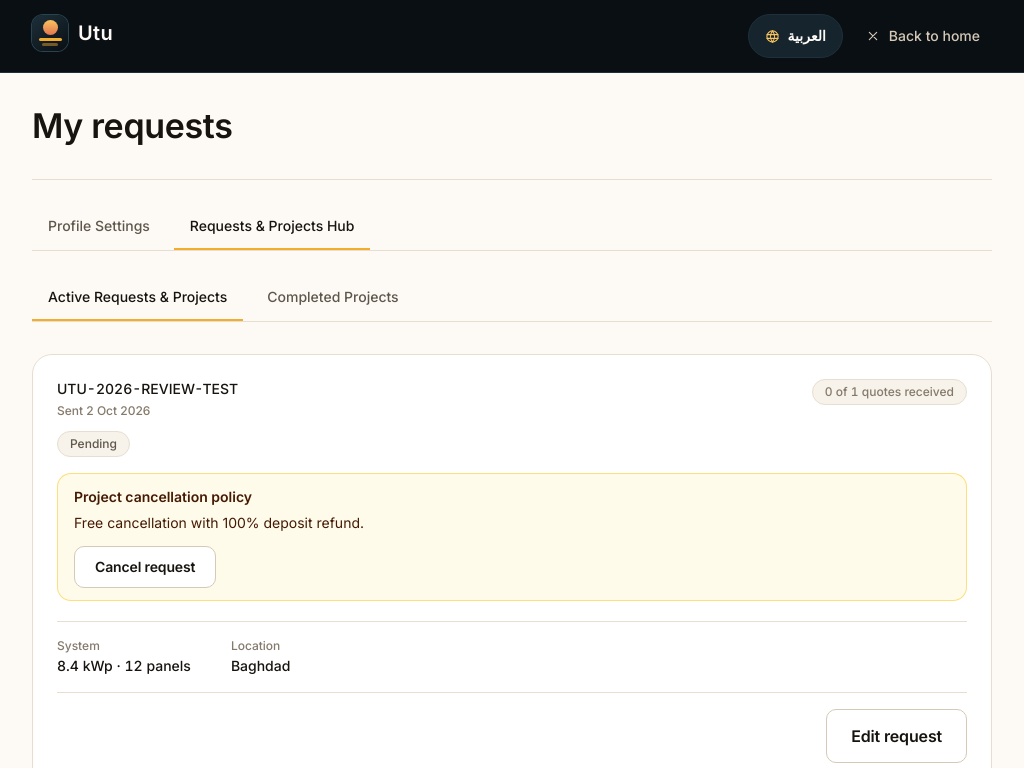
Test: Customer cancellation policy › shows the pending-stage policy to clients and confirms a full deposit refund before cancelling
Expected: the text "Free cancellation with 100% deposit refund." is shown, x1=74 y1=514 x2=364 y2=531
Click the button "Cancel request" at (145, 567), box x1=74 y1=546 x2=216 y2=588
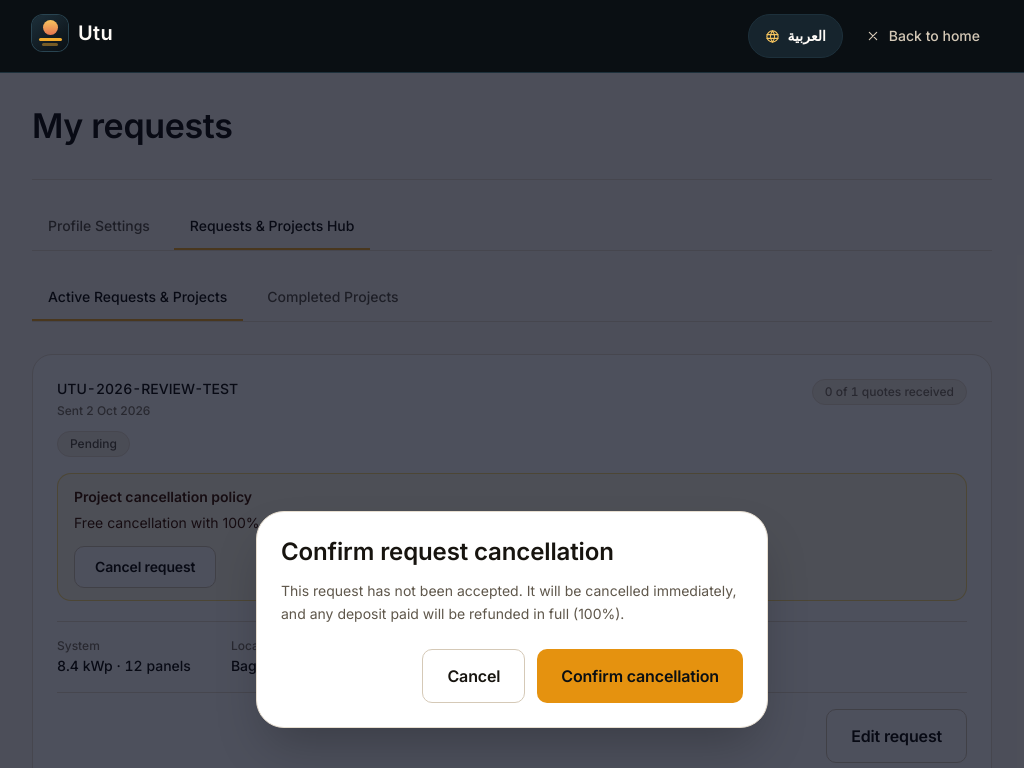
Now the dialog shows "It will be cancelled immediately, and any deposit paid will be refunded in full (100%).", box x1=281 y1=582 x2=736 y2=622
Click the button "Confirm cancellation" at (640, 676), box x1=537 y1=649 x2=743 y2=703
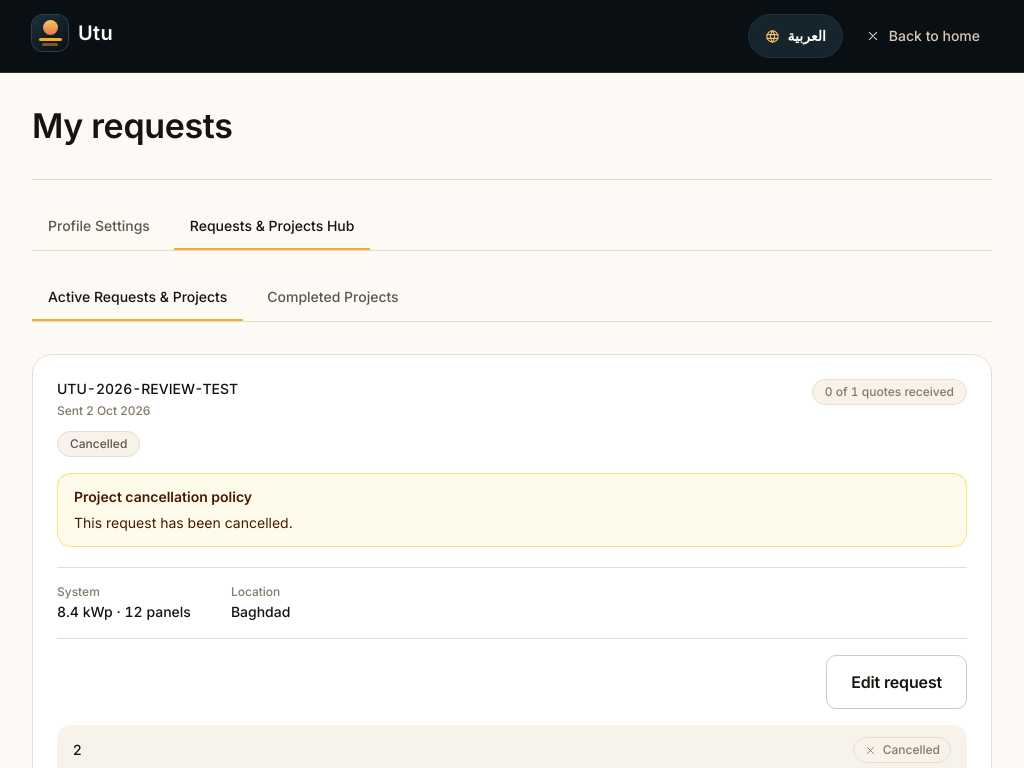
Now the text "This request has been cancelled." is shown, box x1=74 y1=514 x2=293 y2=531
Now the button "Cancel request" is gone
